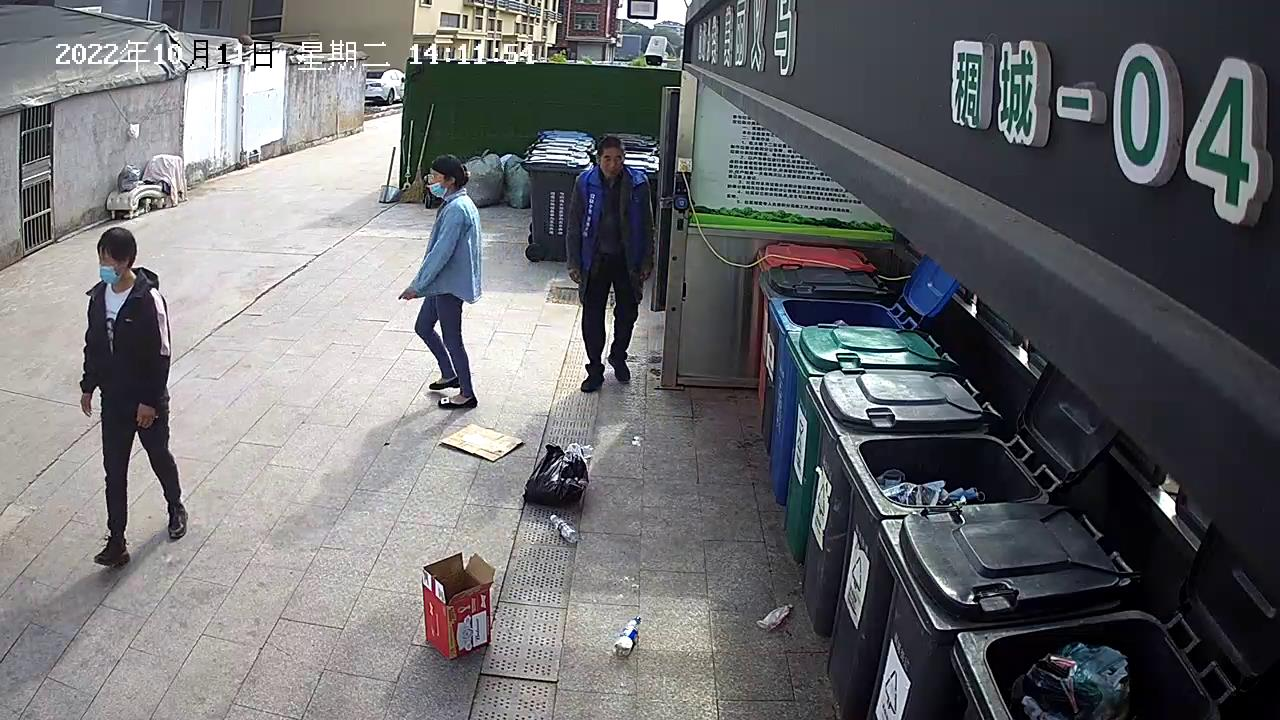garbage-bag: (520, 439, 596, 510)
person: (77, 225, 192, 568)
suliaozhipin: (611, 614, 644, 660), (754, 600, 796, 633), (545, 509, 581, 546)
worker: (562, 135, 657, 395), (396, 151, 484, 412)
zhizhipin: (421, 548, 500, 660), (438, 421, 526, 463)
